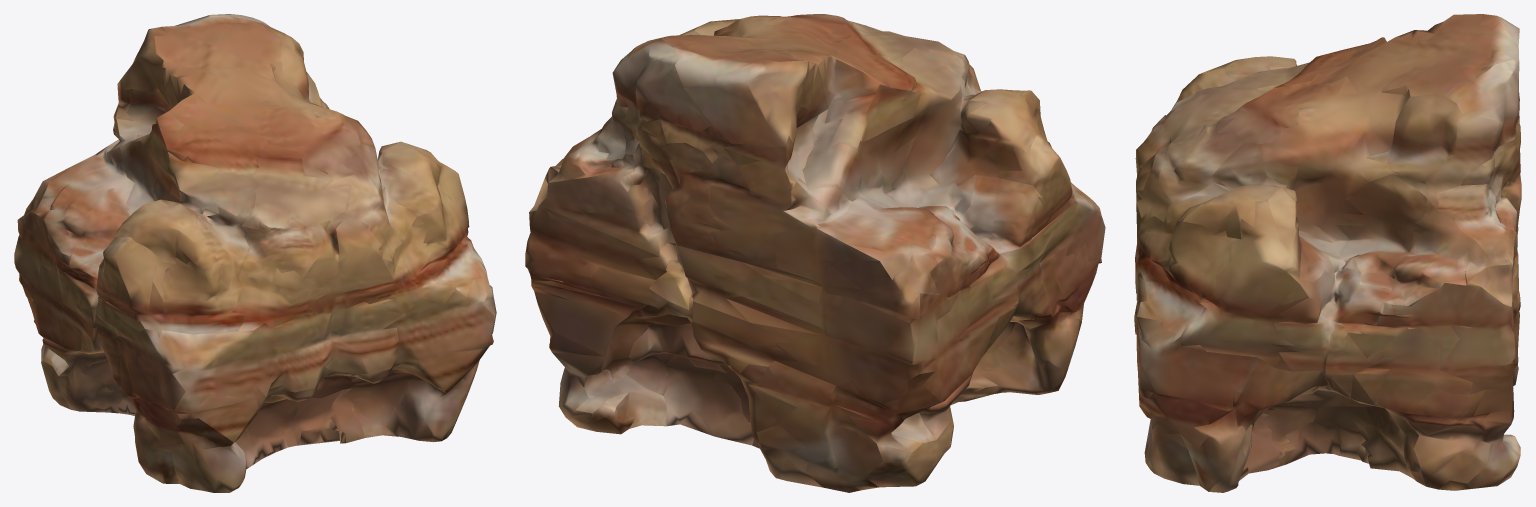
The model's file is boulder.glb.
3 views of the same model, side by side, from view 1: azimuth 30°, elevation 25°; view 2: azimuth 150°, elevation 25°; view 3: azimuth 270°, elevation 25° (orthographic). The views are drawn at different scales.
Parts seen in each view (by area): view 1: Mesh_0; view 2: Mesh_0; view 3: Mesh_0.
Part boxes in pixels (x1,y1,x2,y2): Mesh_0: [14, 14, 496, 492]; Mesh_0: [525, 14, 1105, 492]; Mesh_0: [1134, 14, 1521, 492].
Bounding box in the file's own units: 1.9 × 1.76 × 1.63.
Materials: 1 (1 with a texture image).
